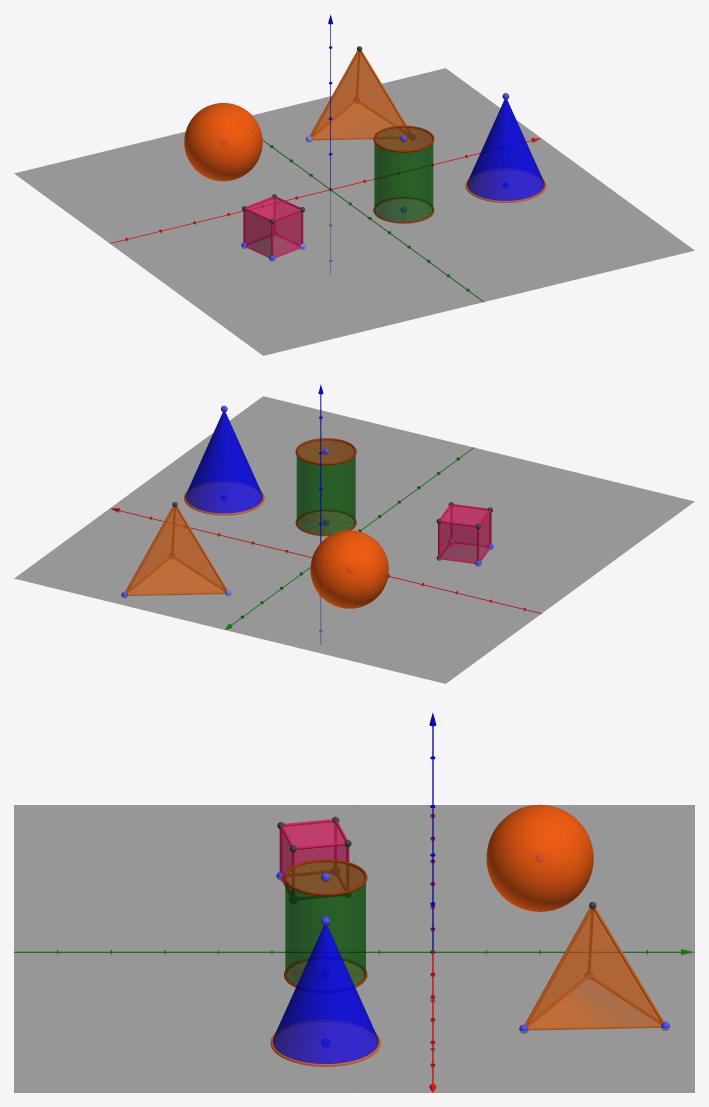
The model's file is Solidi .dae.
3 renders of one model, top to bottom at view 1: azimuth 30°, elevation 25°; view 2: azimuth 150°, elevation 25°; view 3: azimuth 270°, elevation 25°, orthographic. The views are drawn at different scales.
Parts seen in each view (by area): view 1: xOyPlane, xOyPlane_2, b, b_2, f, f_2, g_4, g_4_2, facciaJLM, facciaJKM, facciaJKL, g_3_2 (+7 smaller); view 2: xOyPlane, xOyPlane_2, b, b_2, f, f_2, facciaKLM, g_4, g_4_2, facciaJKL, facciaADHE, facciaJLM (+6 smaller); view 3: xOyPlane, xOyPlane_2, b, b_2, f, f_2, facciaJKM, g_4, g_4_2, facciaKLM, g_3_2, g_3_3 (+8 smaller).
Boxes of the visible parts, bbox=[...] form: xOyPlane: bbox=[14, 68, 694, 355]; xOyPlane_2: bbox=[15, 68, 693, 355]; b: bbox=[184, 103, 262, 181]; b_2: bbox=[184, 103, 262, 180]; f: bbox=[467, 100, 544, 200]; f_2: bbox=[467, 100, 544, 200]; g_4: bbox=[374, 143, 433, 221]; g_4_2: bbox=[374, 143, 433, 221]; facciaJLM: bbox=[312, 52, 403, 138]; facciaJKM: bbox=[358, 53, 403, 125]; facciaJKL: bbox=[313, 102, 389, 137]; g_3_2: bbox=[376, 127, 431, 150]; xOyPlane: bbox=[14, 396, 694, 683]; xOyPlane_2: bbox=[15, 396, 693, 683]; b: bbox=[310, 530, 388, 608]; b_2: bbox=[310, 530, 388, 608]; f: bbox=[185, 412, 262, 513]; f_2: bbox=[185, 412, 262, 512]; facciaKLM: bbox=[127, 507, 225, 593]; g_4: bbox=[296, 456, 355, 533]; g_4_2: bbox=[296, 456, 355, 533]; facciaJKL: bbox=[129, 558, 223, 593]; facciaADHE: bbox=[440, 523, 476, 561]; facciaJLM: bbox=[173, 509, 224, 589]; xOyPlane: bbox=[14, 805, 694, 1092]; xOyPlane_2: bbox=[14, 805, 694, 1092]; b: bbox=[486, 804, 593, 911]; b_2: bbox=[486, 805, 593, 911]; f: bbox=[272, 926, 378, 1063]; f_2: bbox=[273, 926, 378, 1063]; facciaJKM: bbox=[527, 909, 661, 1027]; g_4: bbox=[285, 883, 365, 984]; g_4_2: bbox=[285, 883, 365, 984]; facciaKLM: bbox=[590, 911, 660, 1021]; g_3_2: bbox=[287, 861, 363, 892]; g_3_3: bbox=[287, 861, 363, 892].
Bounding box in the file's own units: 25.41 × 25.41 × 14.66.
